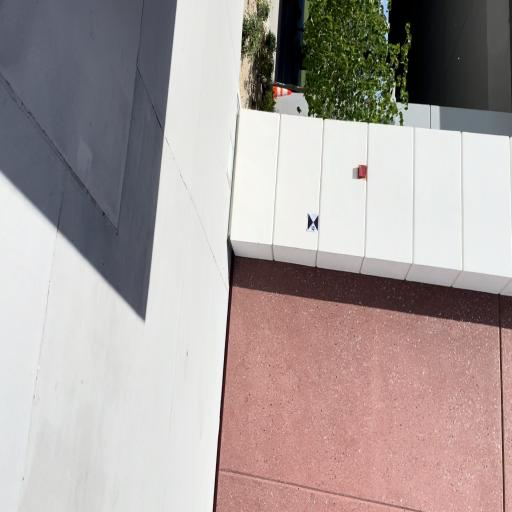target9: (307, 213, 319, 232)
